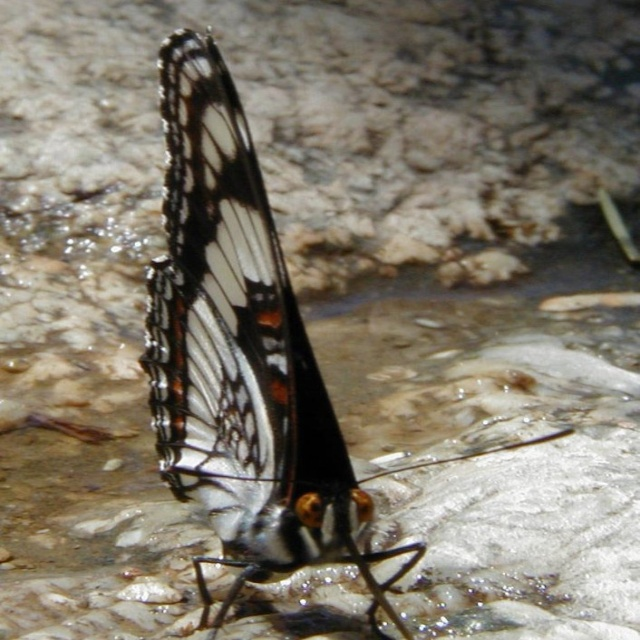Butterfly: (134, 27, 580, 636)
